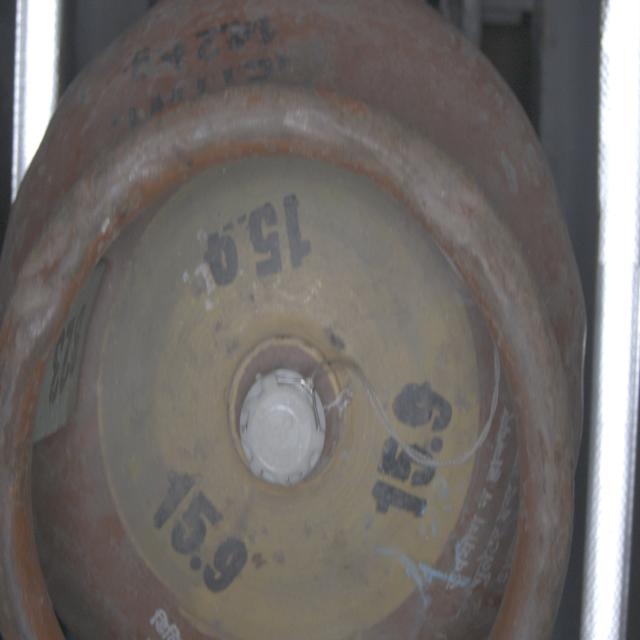Cap: (236, 365, 330, 490)
